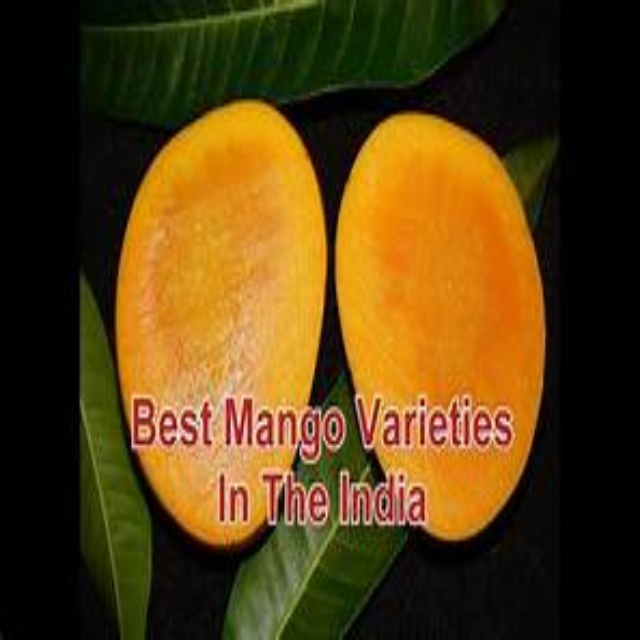mango: (120, 98, 321, 551), (336, 112, 549, 539)
